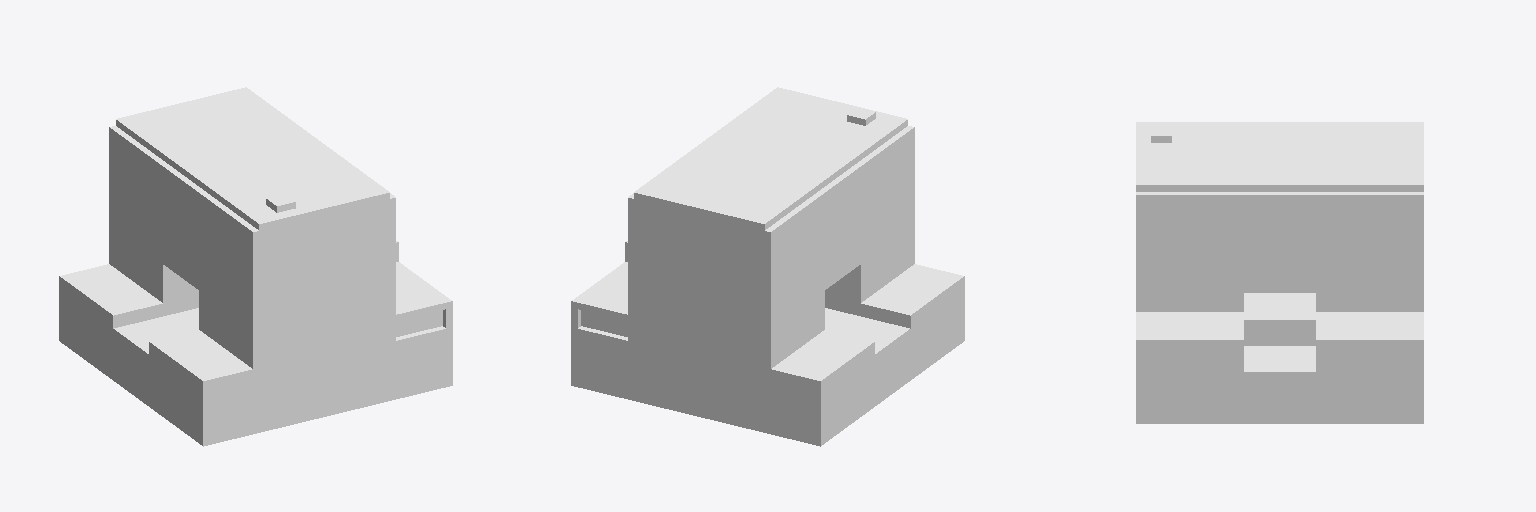
The model's file is WeaponMashine.obj.
The picture shows the model from 3 angles: view 1: azimuth 30°, elevation 25°; view 2: azimuth 150°, elevation 25°; view 3: azimuth 270°, elevation 25°; orthographic projection.
Visible parts, largest first — view 1: object 1; view 2: object 1; view 3: object 1.
Boxes of the visible parts, <box> form: object 1: <box>59,87,452,446</box>; object 1: <box>571,87,964,446</box>; object 1: <box>1136,122,1423,423</box>.
Size of the model in its own units: 4 by 3.3 by 4.